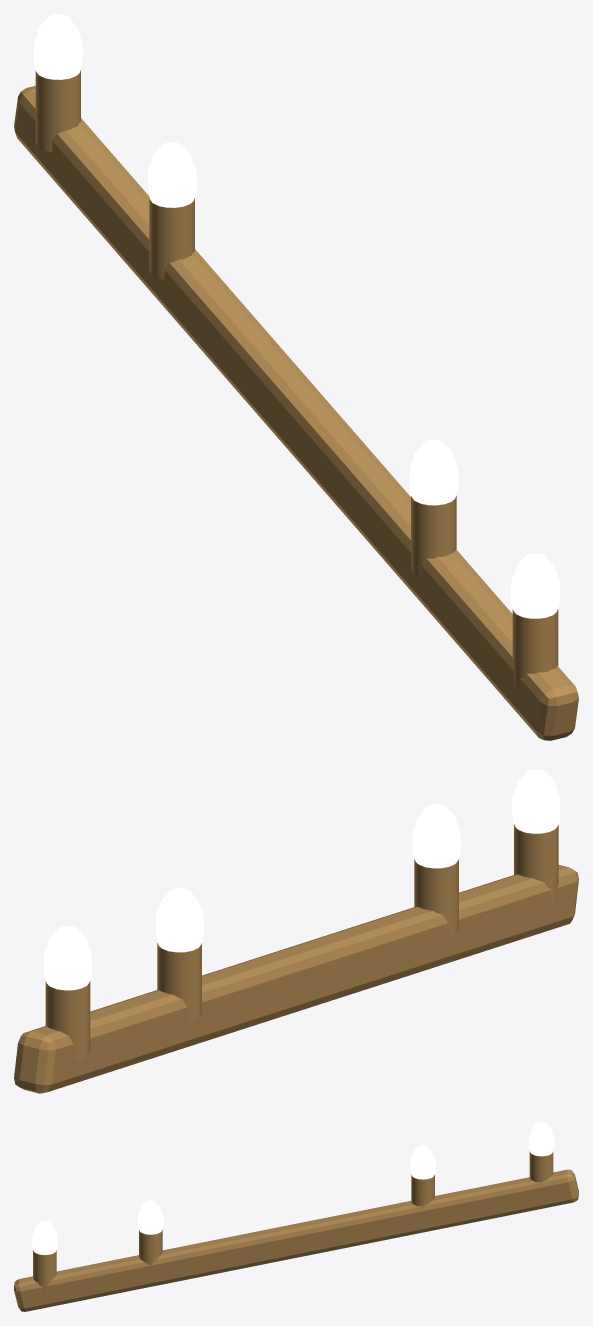
File: SM_Menu_MoonLampBar.fbx
3 views of the same model, one above another, from view 1: azimuth 30°, elevation 25°; view 2: azimuth 150°, elevation 25°; view 3: azimuth 270°, elevation 25° (orthographic). The views are drawn at different scales.
Parts seen in each view (by area): view 1: Timber.069_Baked; view 2: Timber.069_Baked; view 3: Timber.069_Baked.
Boxes of the visible parts, x1=… form: Timber.069_Baked: x1=14, y1=14, x2=578, y2=740; Timber.069_Baked: x1=14, y1=769, x2=578, y2=1093; Timber.069_Baked: x1=14, y1=1122, x2=578, y2=1311.
Bounding box in the file's own units: 8.49 × 176 × 64.45.
